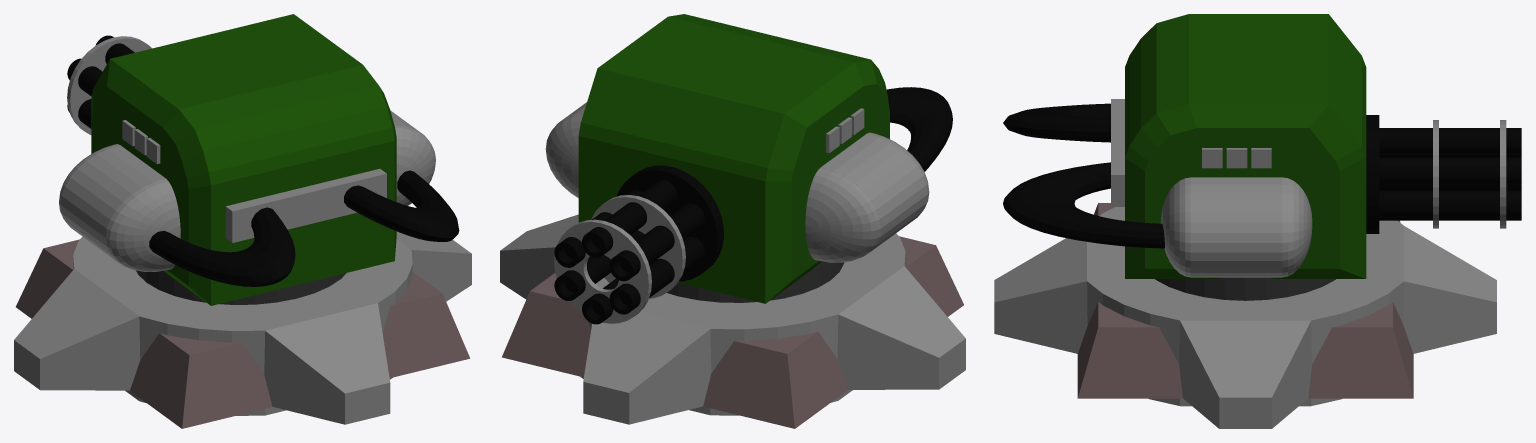
File: WeaponGatlingGun.fbx
3 views of the same model, side by side, from view 1: azimuth 30°, elevation 25°; view 2: azimuth 150°, elevation 25°; view 3: azimuth 270°, elevation 25° (orthographic).
Visible parts, largest first — view 1: Cylinder.001, Cylinder; view 2: Cylinder.001, Cylinder; view 3: Cylinder.001, Cylinder.
Part boxes in pixels (x1=…): Cylinder.001: x1=59, y1=14, x2=459, y2=305; Cylinder: x1=14, y1=231, x2=471, y2=428; Cylinder.001: x1=545, y1=14, x2=952, y2=324; Cylinder: x1=500, y1=214, x2=965, y2=428; Cylinder.001: x1=1003, y1=14, x2=1521, y2=300; Cylinder: x1=994, y1=203, x2=1496, y2=428.
Bounding box in the file's own units: 738 × 454 × 775.
